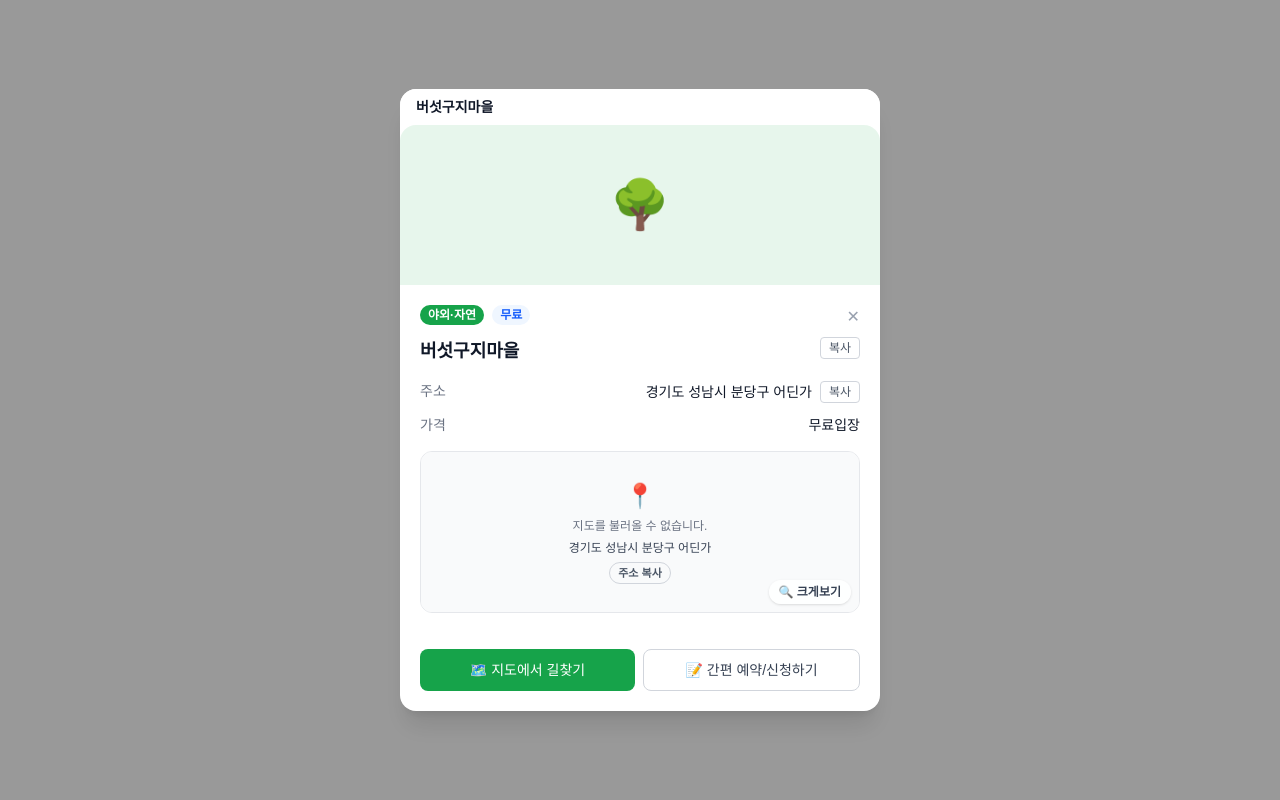
Scenario: DetailModal 보조 액션(공식 홈페이지 / 간편 예약·신청 / 안내 텍스트) › info_url은 없지만 관리자가 큐레이션한 스팟이면 [📝 간편 예약/신청하기] 버튼이 뜨고, 누르면 신청 폼 모달이 열린다
The width and height of the screenshot is (1280, 800).
Click the button "📝 간편 예약/신청하기".
click(752, 670)  # box [643,649,860,691]
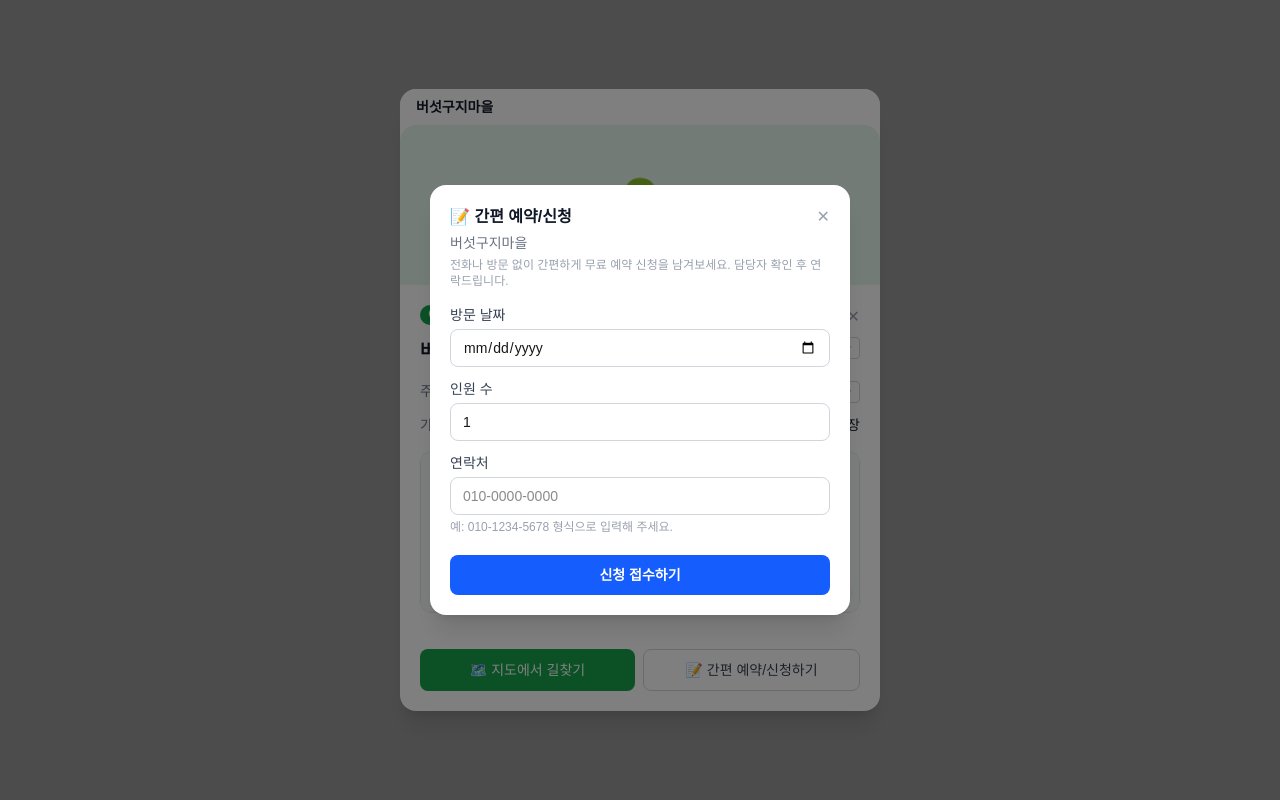
Check: the text "버섯구지마을" is shown 3 times, box [416,97,493,117]; [420,337,519,365]; [450,235,527,251]
Check: the heading "📝 간편 예약/신청" is shown, box [450,205,572,229]
